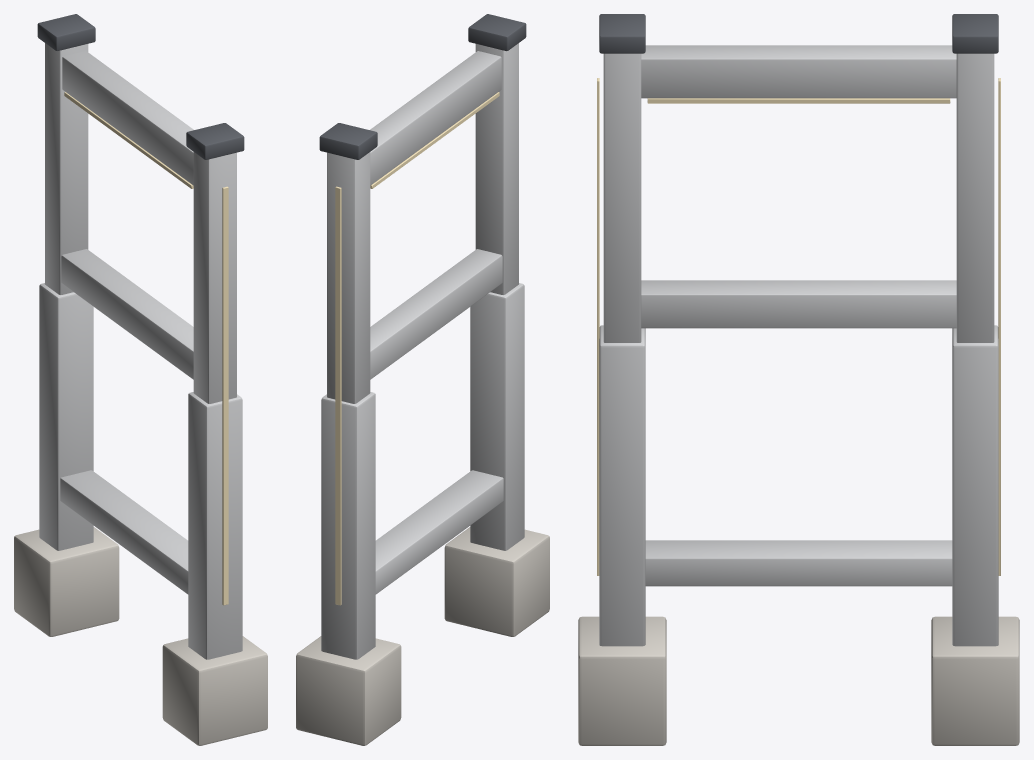
File: Istanbul_BosphorusBridgeTower.fbx
3 views of the same model, side by side, from view 1: azimuth 30°, elevation 25°; view 2: azimuth 150°, elevation 25°; view 3: azimuth 270°, elevation 25° (orthographic). The views are drawn at different scales.
Visible parts, largest first — view 1: Istanbul_BosphorusBridgeTower; view 2: Istanbul_BosphorusBridgeTower; view 3: Istanbul_BosphorusBridgeTower.
Boxes of the visible parts, <box> form: Istanbul_BosphorusBridgeTower: <box>14,14,267,745</box>; Istanbul_BosphorusBridgeTower: <box>296,14,549,745</box>; Istanbul_BosphorusBridgeTower: <box>578,14,1019,745</box>.
Size of the model in its own units: 4.6 by 36.88 by 21.
